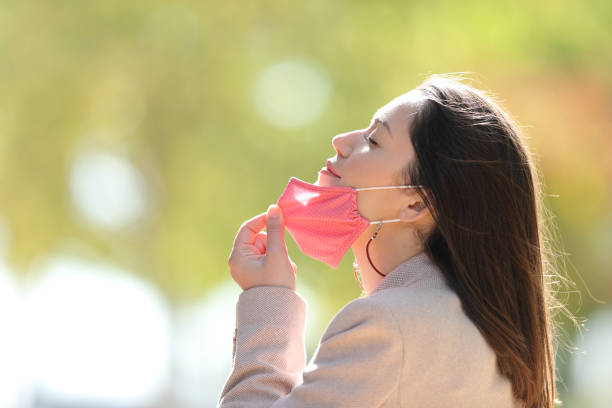without mask: (305, 83, 438, 238)
